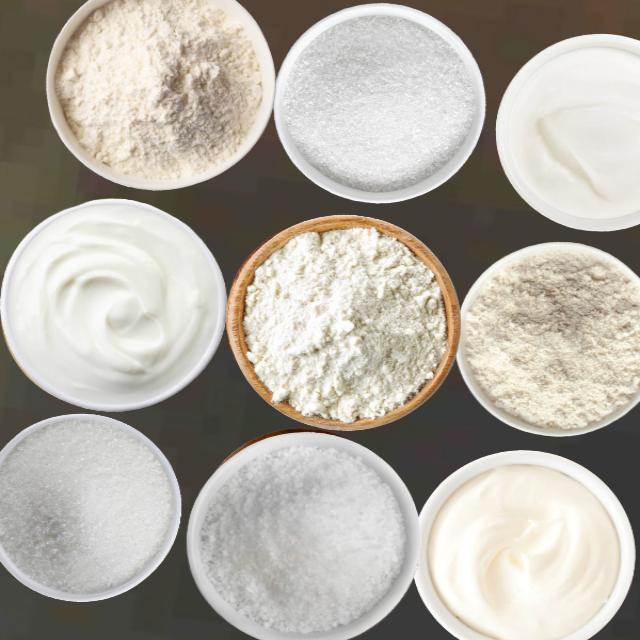Flour: (242, 225, 447, 422), (55, 0, 262, 182), (462, 248, 639, 429)
Sugar: (199, 444, 405, 634), (281, 13, 475, 192), (0, 416, 174, 594)
